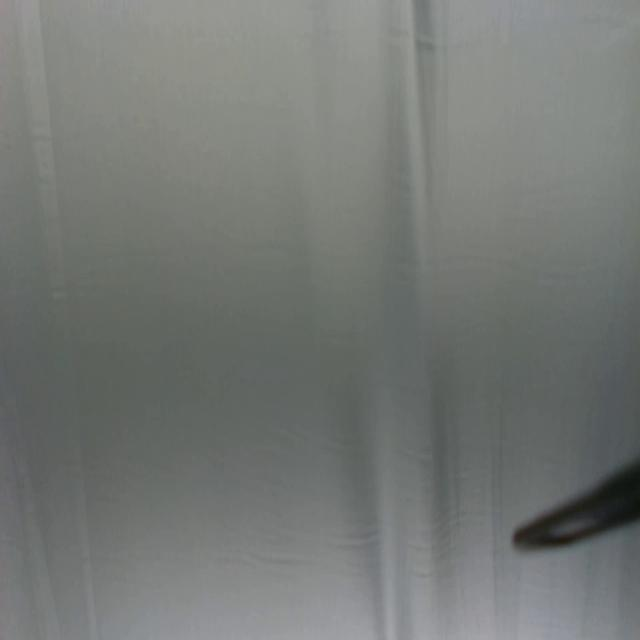crease: (16, 0, 97, 640)
